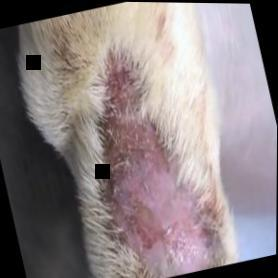skin_lesions: (68, 48, 232, 278)
